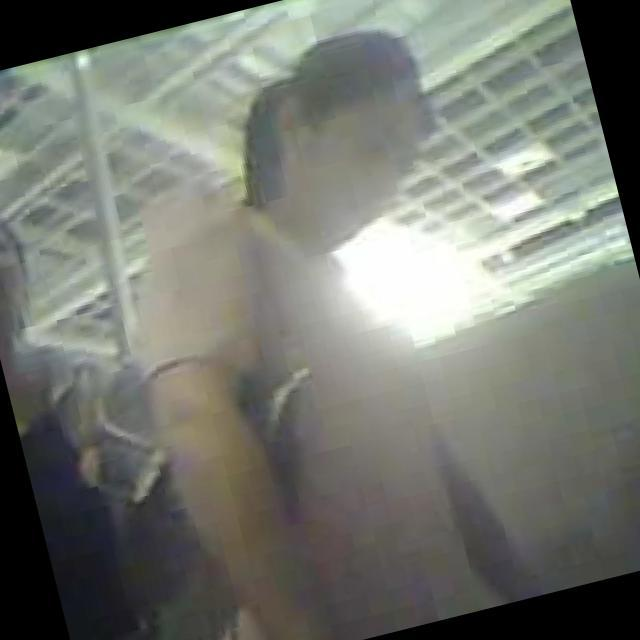person: (61, 9, 561, 640), (0, 187, 195, 640)
